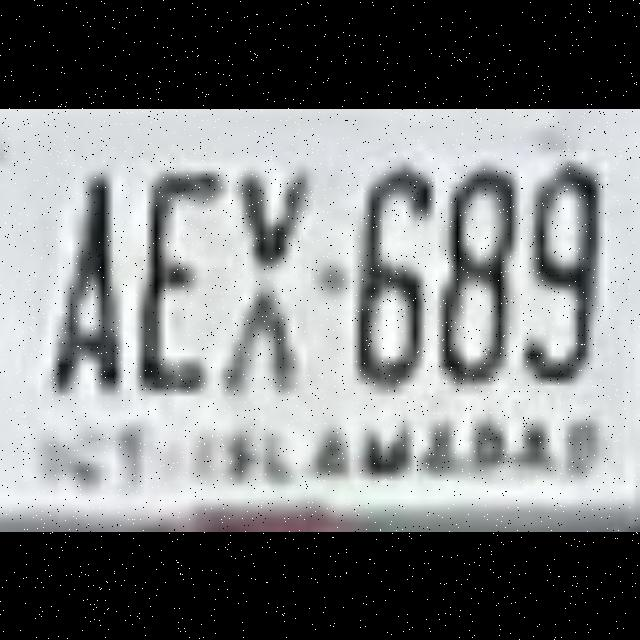6: (366, 150, 444, 400)
8: (448, 150, 526, 400)
9: (530, 150, 608, 400)
A: (49, 150, 128, 398)
E: (140, 150, 220, 400)
X: (230, 150, 308, 400)
